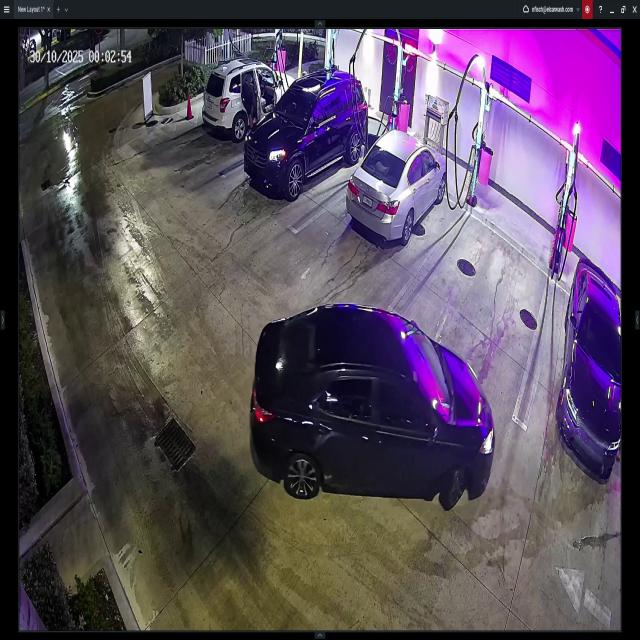Car: (249, 301, 495, 513), (242, 71, 368, 197), (556, 255, 620, 481), (348, 126, 447, 241), (203, 62, 297, 140)
